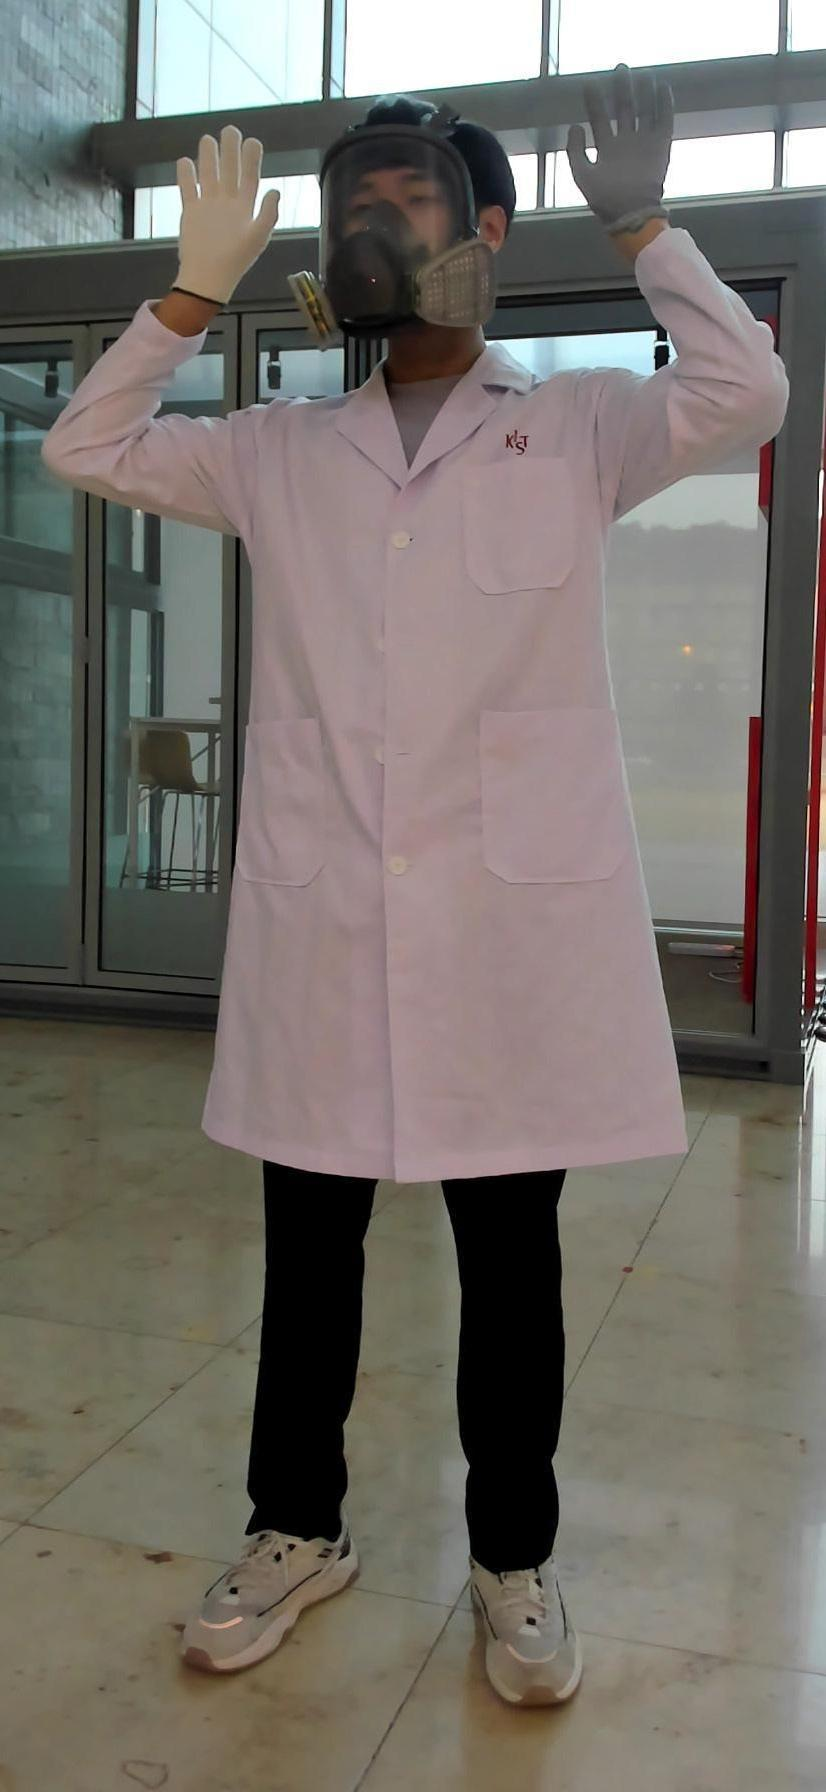lab_coat: (62, 369, 716, 1167)
